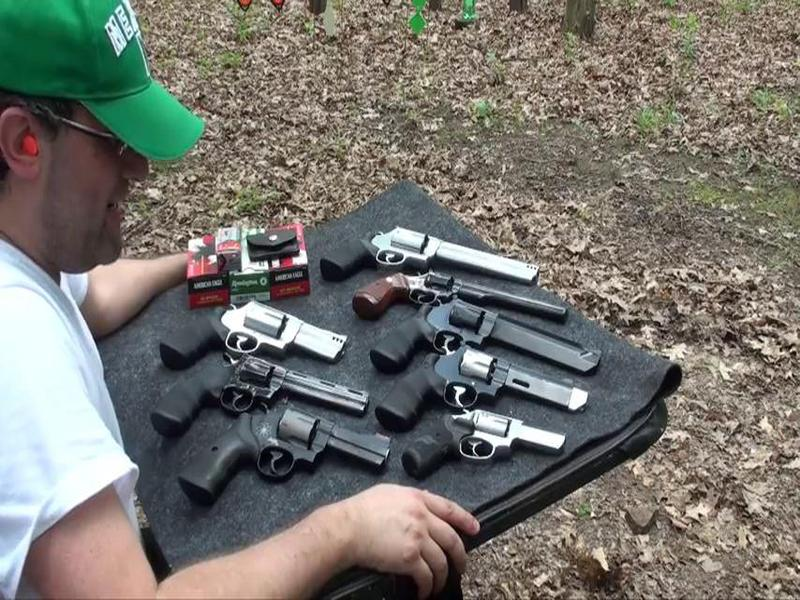Revolver: (371, 340, 591, 424)
